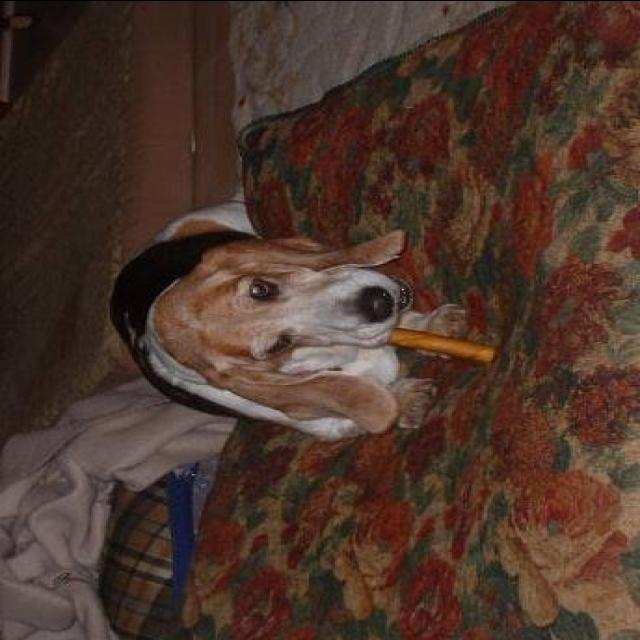basset: (97, 196, 480, 448)
